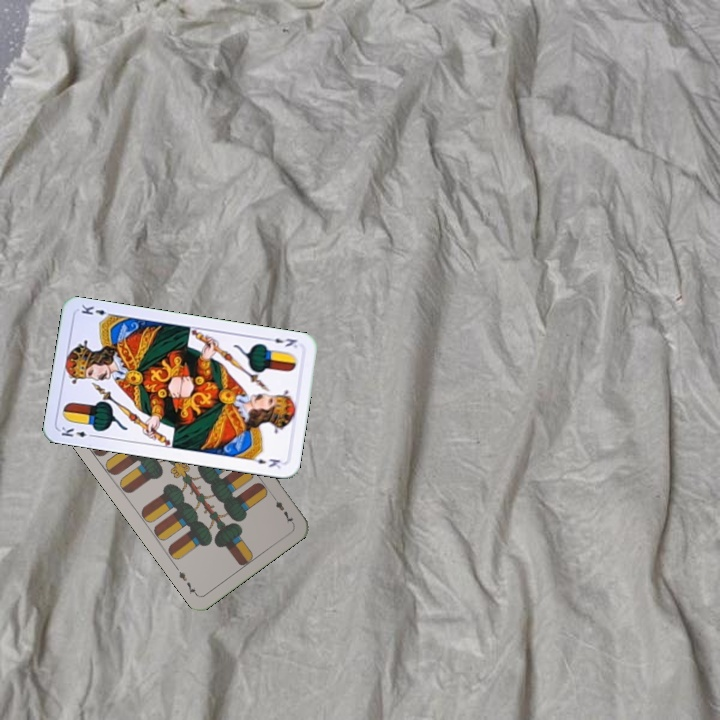E7: (268, 491, 296, 526)
EK: (57, 423, 98, 440), (262, 333, 300, 350)
